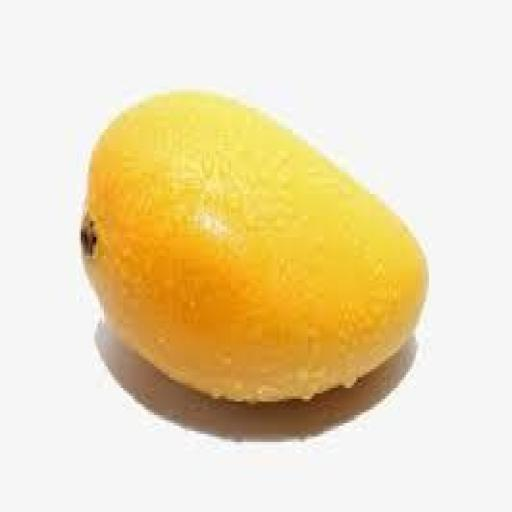mango: (81, 92, 427, 401)
